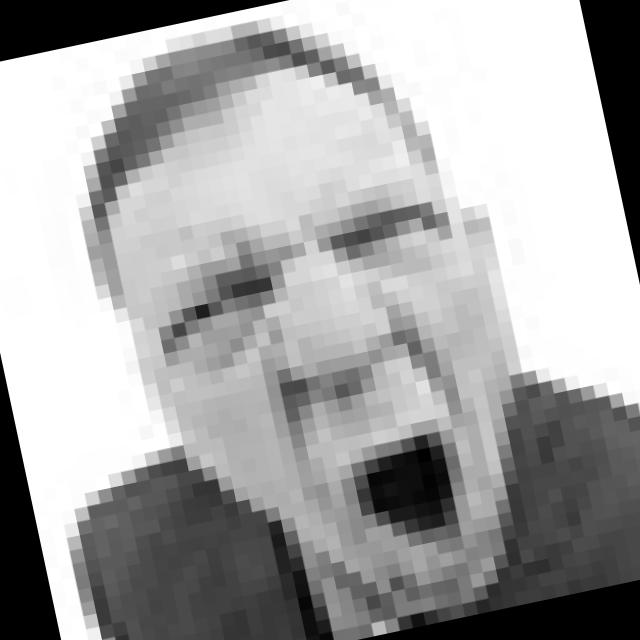angry: (122, 170, 524, 621)
